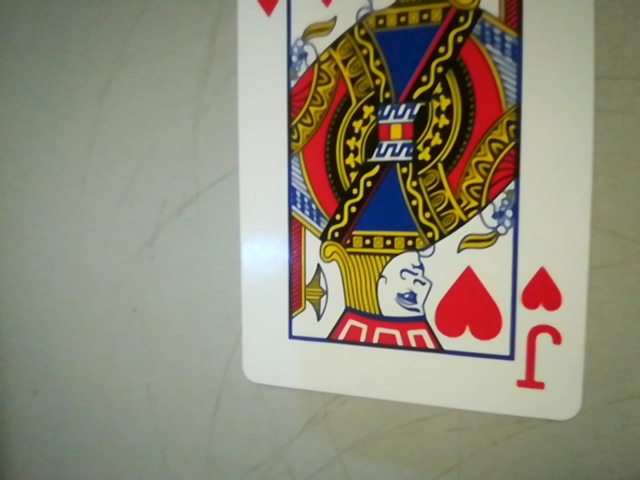hx j: (510, 265, 577, 397)
